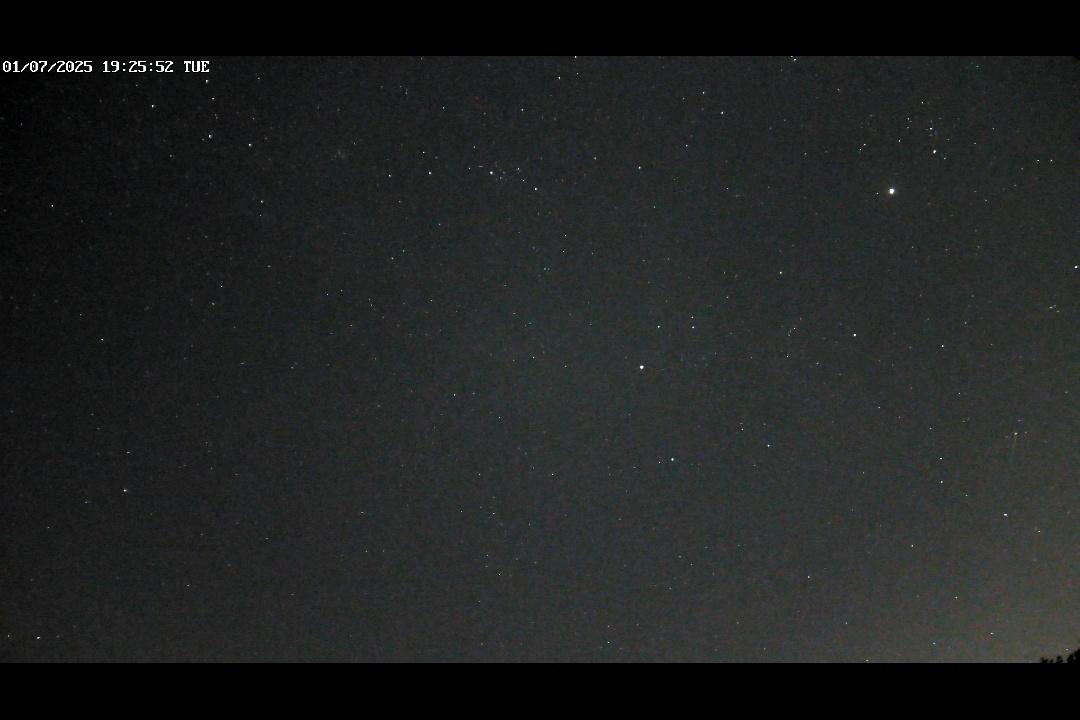Plane: (1009, 430, 1023, 468)
